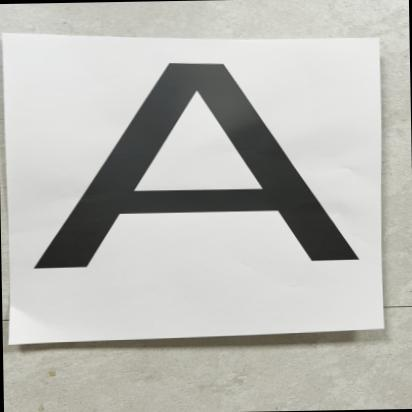seat: (15, 48, 372, 282)
